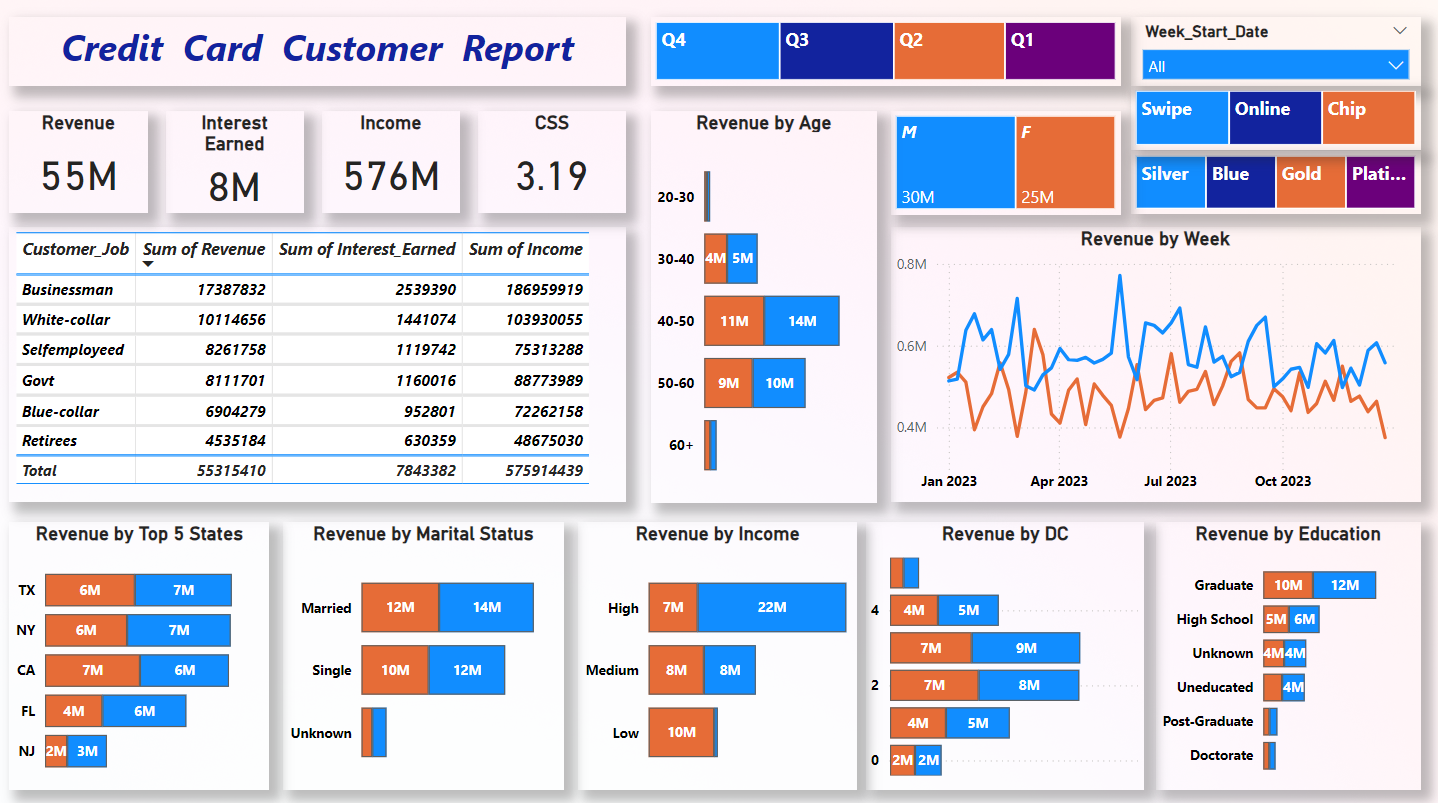

What the dashboard file says about the page in this screenshot:
{"tool":"powerbi","page":{"name":"CC Customer","canvas":[1280,720],"ordinal":2},"visuals":[{"type":"textbox","box":[9.8,17.2,548,61.4],"z":0},{"type":"barChart","title":"Revenue by Income","fields":{"Y":["Sum(credit_card.Revenue)"],"Category":["customer.IncomeGroup"],"Series":["customer.Gender"]},"box":[516,465.3,248.3,238.7],"z":1000},{"type":"tableEx","fields":{"Values":["customer.Customer_Job","Sum(credit_card.Revenue)","Sum(credit_card.Interest_Earned)","Sum(customer.Income)"]},"box":[10,203.7,547.7,244.9],"z":2000},{"type":"card","title":"Revenue","fields":{"Values":["Sum(credit_card.Revenue)"]},"box":[9.8,99.5,122.9,90.9],"z":3000},{"type":"card","title":"Income","fields":{"Values":["Sum(customer.Income)"]},"box":[287.5,99.5,122.9,90.9],"z":4000},{"type":"card","title":"Interest Earned","fields":{"Values":["Sum(credit_card.Interest_Earned)"]},"box":[148.7,99.5,122.9,90.9],"z":5000},{"type":"card","title":"CSS","fields":{"Values":["Avg(customer.Cust_Satisfaction_Score)"]},"box":[426.3,99.5,131.5,90.9],"z":6000},{"type":"slicer","fields":{"Values":["credit_card.Week_Start_Date"]},"box":[1006.3,16.7,258.3,61.2],"z":7000},{"type":"treemap","fields":{"Group":["credit_card.Qtr"],"Values":["Avg(credit_card.Client_Num)"]},"box":[580,16.7,418.6,61.2],"z":8000},{"type":"treemap","fields":{"Group":["credit_card.Card_Category"],"Values":["Avg(credit_card.Client_Num)"]},"box":[1006.3,135.8,258.3,56.8],"z":9000},{"type":"lineChart","title":"Revenue by Week","fields":{"Y":["Sum(credit_card.Revenue)"],"Series":["customer.Gender"],"Category":["credit_card.Week_Start_Date.Variation.Date Hierarchy.Year","credit_card.Week_Start_Date.Variation.Date Hierarchy.Month","credit_card.Week_Start_Date.Variation.Date Hierarchy.Day"]},"box":[793.7,203.7,470.9,244.9],"z":10000},{"type":"treemap","fields":{"Group":["customer.Gender"],"Values":["Sum(credit_card.Revenue)"]},"box":[793.2,100.1,204.9,92.8],"z":11000},{"type":"barChart","title":"Revenue by Age","fields":{"Y":["Sum(credit_card.Revenue)"],"Category":["customer.AgeGroup"],"Series":["customer.Gender"]},"box":[580,100.2,201.5,348.4],"z":12000},{"type":"barChart","title":"Revenue by DC","fields":{"Y":["Sum(credit_card.Revenue)"],"Category":["customer.Dependent_Count"],"Series":["customer.Gender"]},"box":[771.5,465.3,248.3,238.7],"z":13000},{"type":"barChart","title":"Revenue by Education","fields":{"Y":["Sum(credit_card.Revenue)"],"Category":["customer.Education_Level"],"Series":["customer.Gender"]},"box":[1028.6,465.3,236,238.2],"z":14000},{"type":"barChart","title":"Revenue by Top 5 States","fields":{"Y":["Sum(credit_card.Revenue)"],"Category":["customer.state_cd"],"Series":["customer.Gender"]},"box":[9.6,465.3,231.5,238.7],"z":15000},{"type":"barChart","title":"Revenue by Marital Status","fields":{"Y":["Sum(credit_card.Revenue)"],"Category":["customer.Marital_Status"],"Series":["customer.Gender"]},"box":[253.2,465.3,249.5,238.7],"z":16000},{"type":"treemap","fields":{"Values":["Avg(credit_card.Client_Num)"],"Group":["credit_card.Use Chip"]},"box":[1006.3,77.9,258.3,57.9],"z":17000}]}

Visuals, with their boxes in screenshot pixels (x1, y1, x2, y2), scaled from the page's 1280x720 canvas onto the 1438x803 screenshot:
textbox: bbox=[11, 19, 627, 88]
"Revenue by Income" barChart: bbox=[580, 519, 859, 785]
tableEx - customer.Customer_Job x Sum(credit_card.Revenue): bbox=[11, 227, 627, 500]
"Revenue" card: bbox=[11, 111, 149, 212]
"Income" card: bbox=[323, 111, 461, 212]
"Interest Earned" card: bbox=[167, 111, 305, 212]
"CSS" card: bbox=[479, 111, 627, 212]
slicer - credit_card.Week_Start_Date: bbox=[1131, 19, 1421, 87]
treemap - credit_card.Qtr x Avg(credit_card.Client_Num): bbox=[652, 19, 1122, 87]
treemap - credit_card.Card_Category x Avg(credit_card.Client_Num): bbox=[1131, 151, 1421, 215]
"Revenue by Week" lineChart: bbox=[892, 227, 1421, 500]
treemap - customer.Gender x Sum(credit_card.Revenue): bbox=[891, 112, 1121, 215]
"Revenue by Age" barChart: bbox=[652, 112, 878, 500]
"Revenue by DC" barChart: bbox=[867, 519, 1146, 785]
"Revenue by Education" barChart: bbox=[1156, 519, 1421, 785]
"Revenue by Top 5 States" barChart: bbox=[11, 519, 271, 785]
"Revenue by Marital Status" barChart: bbox=[284, 519, 565, 785]
treemap - Avg(credit_card.Client_Num) x credit_card.Use Chip: bbox=[1131, 87, 1421, 151]
